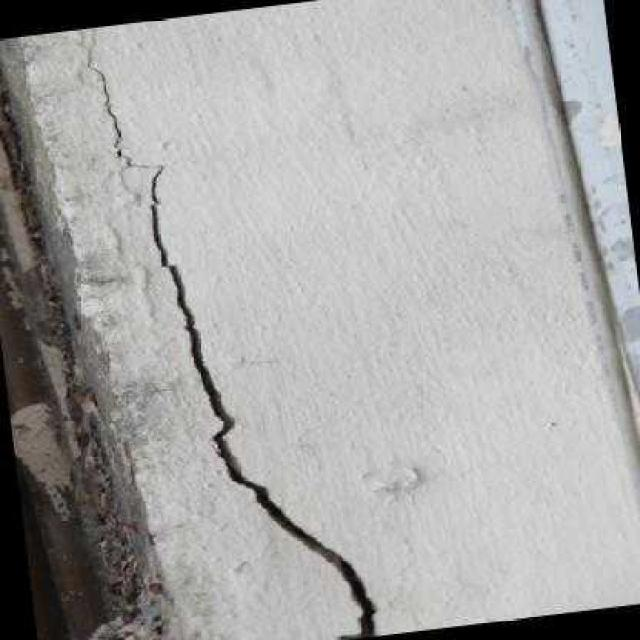D00: (87, 59, 376, 640)
